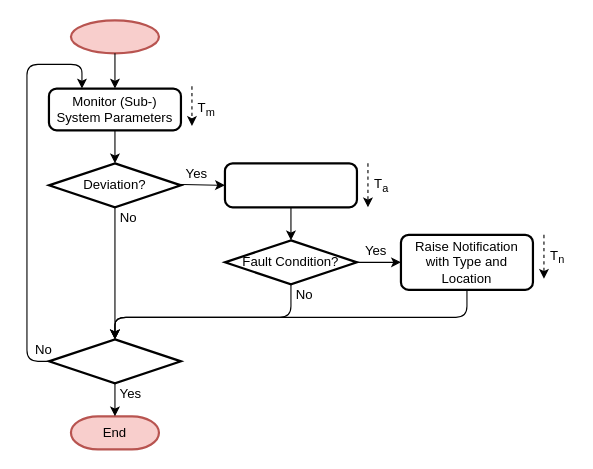
Image size: 593x469. Some labels were removed from this diagram. The shapes that lost their labels are listed below. From the top down, each one's box as (x1, y1, x2, y2) in pixels, then its label:
(69, 19, 160, 54): Start
(223, 162, 358, 208): Cause/Effect or Effect/Cause Analysis
(47, 338, 182, 384): Finished?
